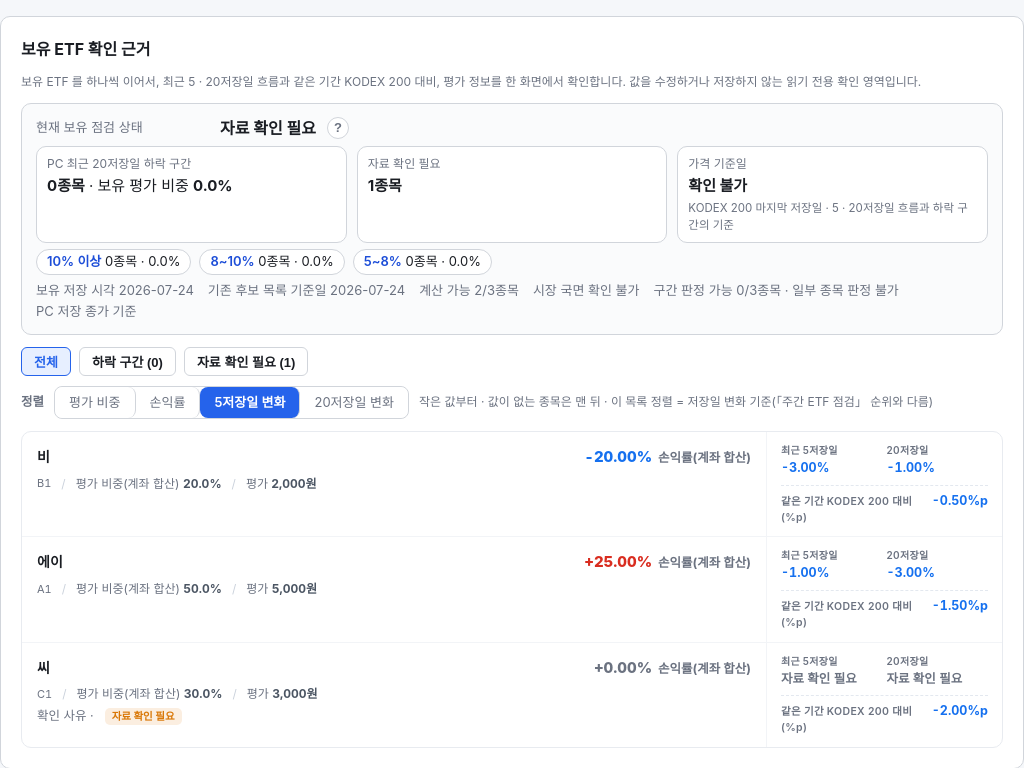
it: 확인 근거 — 사용자 선택 정렬 · 자료 확인 안내 · 전체 ETF NAV 이동 (POC5-UI-02) › 네 정렬 · 기본 5저장일 변화 · 값 없는 행은 맨 뒤 · KODEX 200 대비 값은 계속 보인다 · 다시 조회하지 않는다
The width and height of the screenshot is (1024, 768).
Expected: the text with class "holdings-sortbar-hint" reads "작은 값부터 · 값이 없는 종목은 맨 뒤 · 이 목록 정렬 = 저장일 변화 기준(「주간 ETF 점검」 순위와 다름)", top-left (419, 393), bottom-right (933, 411)
Click the button "평가 비중" at (95, 402), box top-left (55, 386), bottom-right (136, 418)
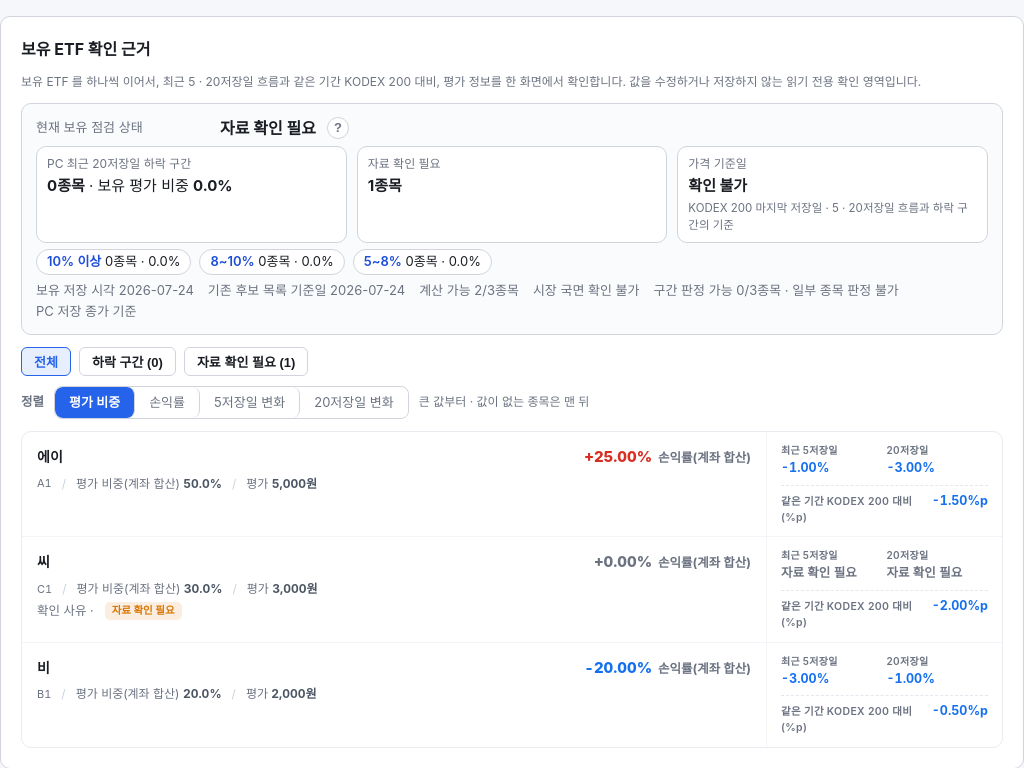
Expected: the button "평가 비중" is pressed, top-left (55, 386), bottom-right (135, 418)
Click the button "손익률" at (168, 402), box top-left (135, 386), bottom-right (200, 418)
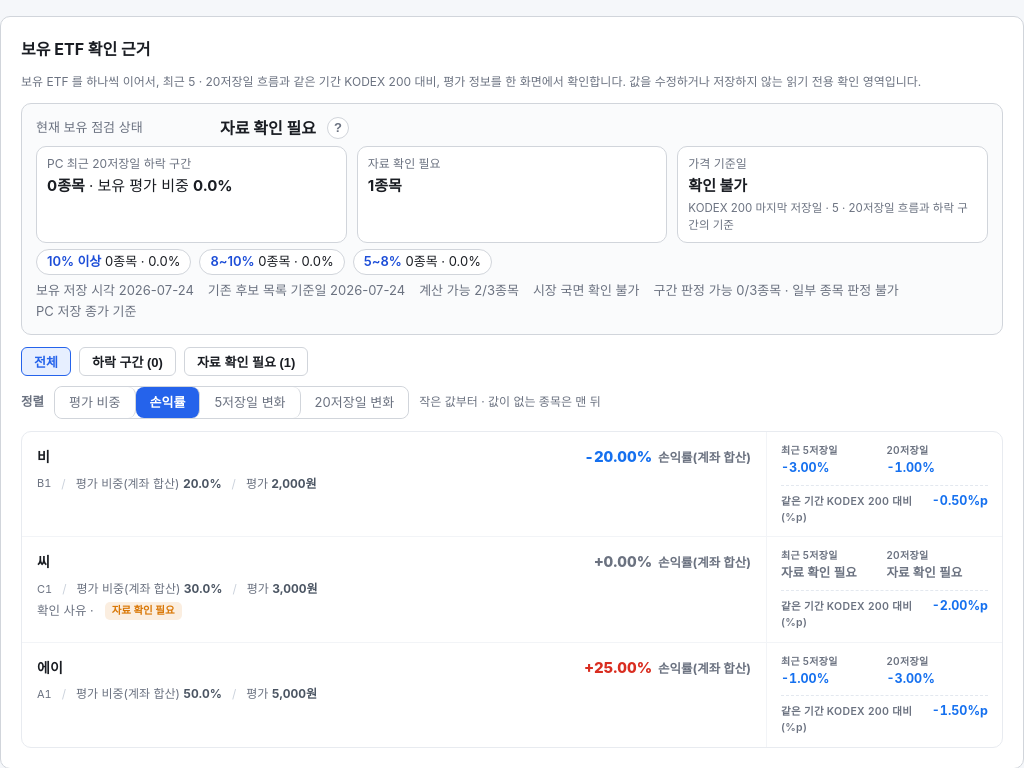
Expected: the button "손익률" is pressed, top-left (136, 386), bottom-right (200, 418)
Click the button "20저장일 변화" at (354, 402), box top-left (301, 386), bottom-right (408, 418)
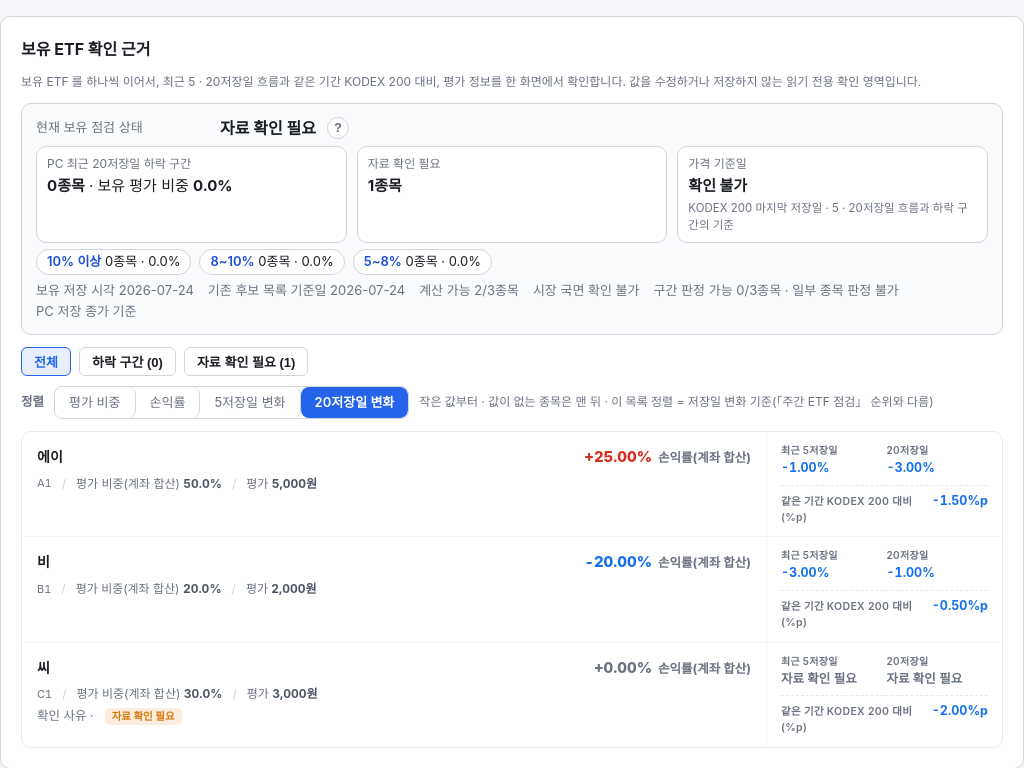
Expected: the button "20저장일 변화" is pressed, top-left (301, 386), bottom-right (408, 418)
Click the button "5저장일 변화" at (250, 402), box top-left (200, 386), bottom-right (301, 418)
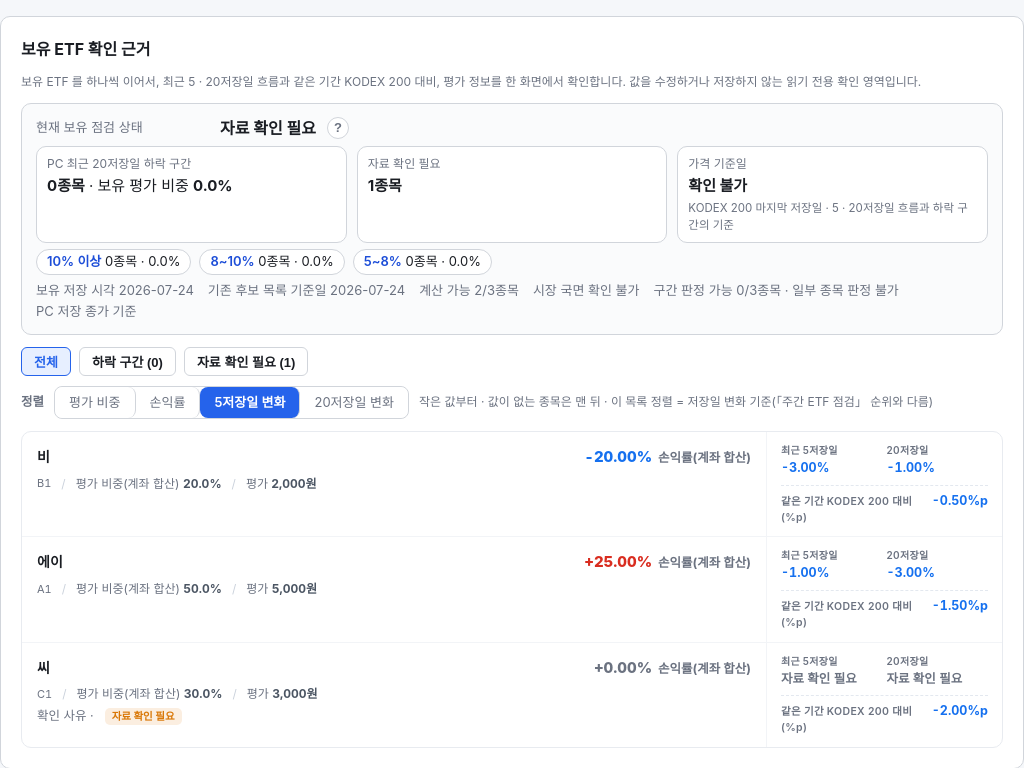
Expected: the element with test id "hre-evidence-list" shows "-1.50%p", top-left (932, 598), bottom-right (988, 613)
Expected: the button "5저장일 변화" is pressed, top-left (200, 386), bottom-right (300, 418)
Click the button "평가 비중" at (95, 402), box top-left (55, 386), bottom-right (136, 418)
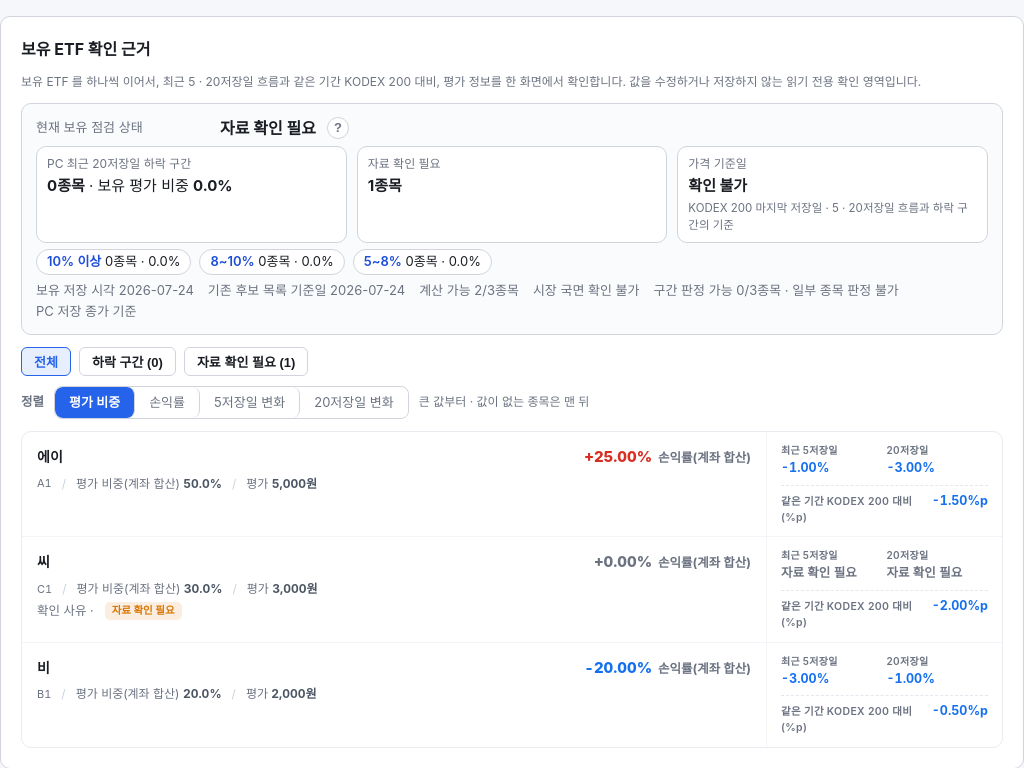
Expected: the text with class "holdings-sortbar-hint" reads "큰 값부터 · 값이 없는 종목은 맨 뒤", top-left (419, 393), bottom-right (589, 411)
Click the button "손익률" at (168, 402), box top-left (135, 386), bottom-right (200, 418)
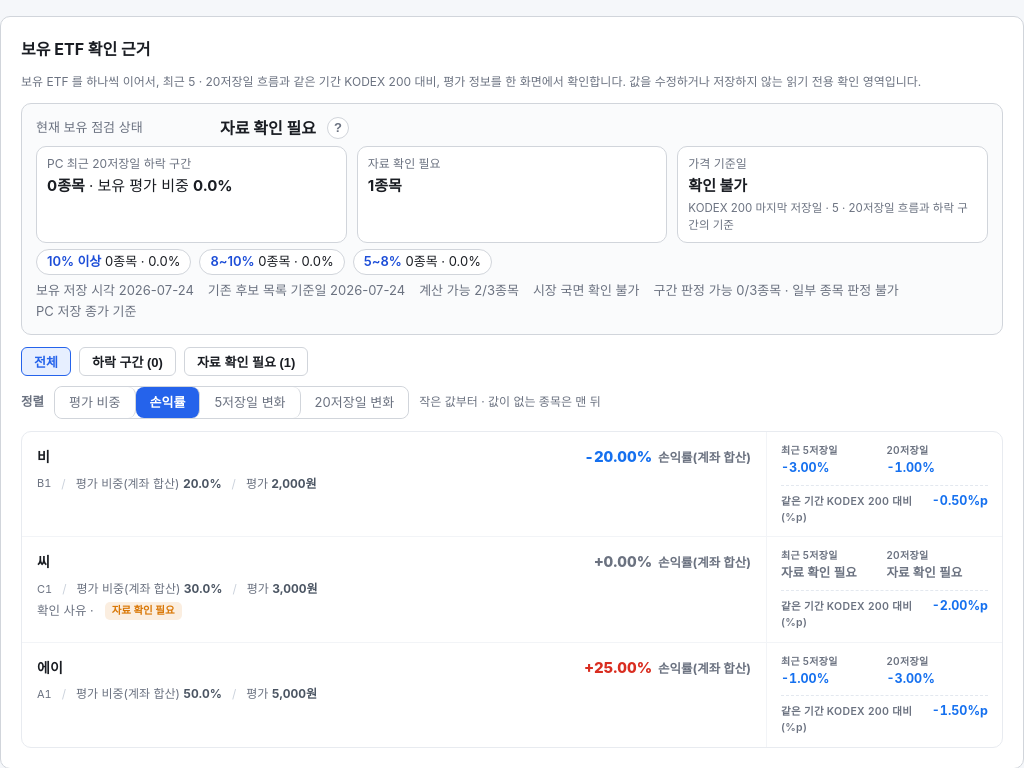
Expected: the text with class "holdings-sortbar-hint" reads "작은 값부터 · 값이 없는 종목은 맨 뒤", top-left (419, 393), bottom-right (601, 411)
